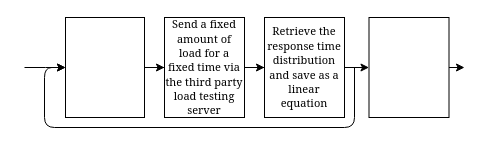
The diagram is 490 pixels wide and 153 high, and some of its shapes have lost their labels. Here are the shapes that lost their labels. From the top down, the centre of each, then its label:
At [104,67]: "Randomly sample and set component weightings".
At [408,67]: "Run linear regression on list of linear equations to obtain weightings".
